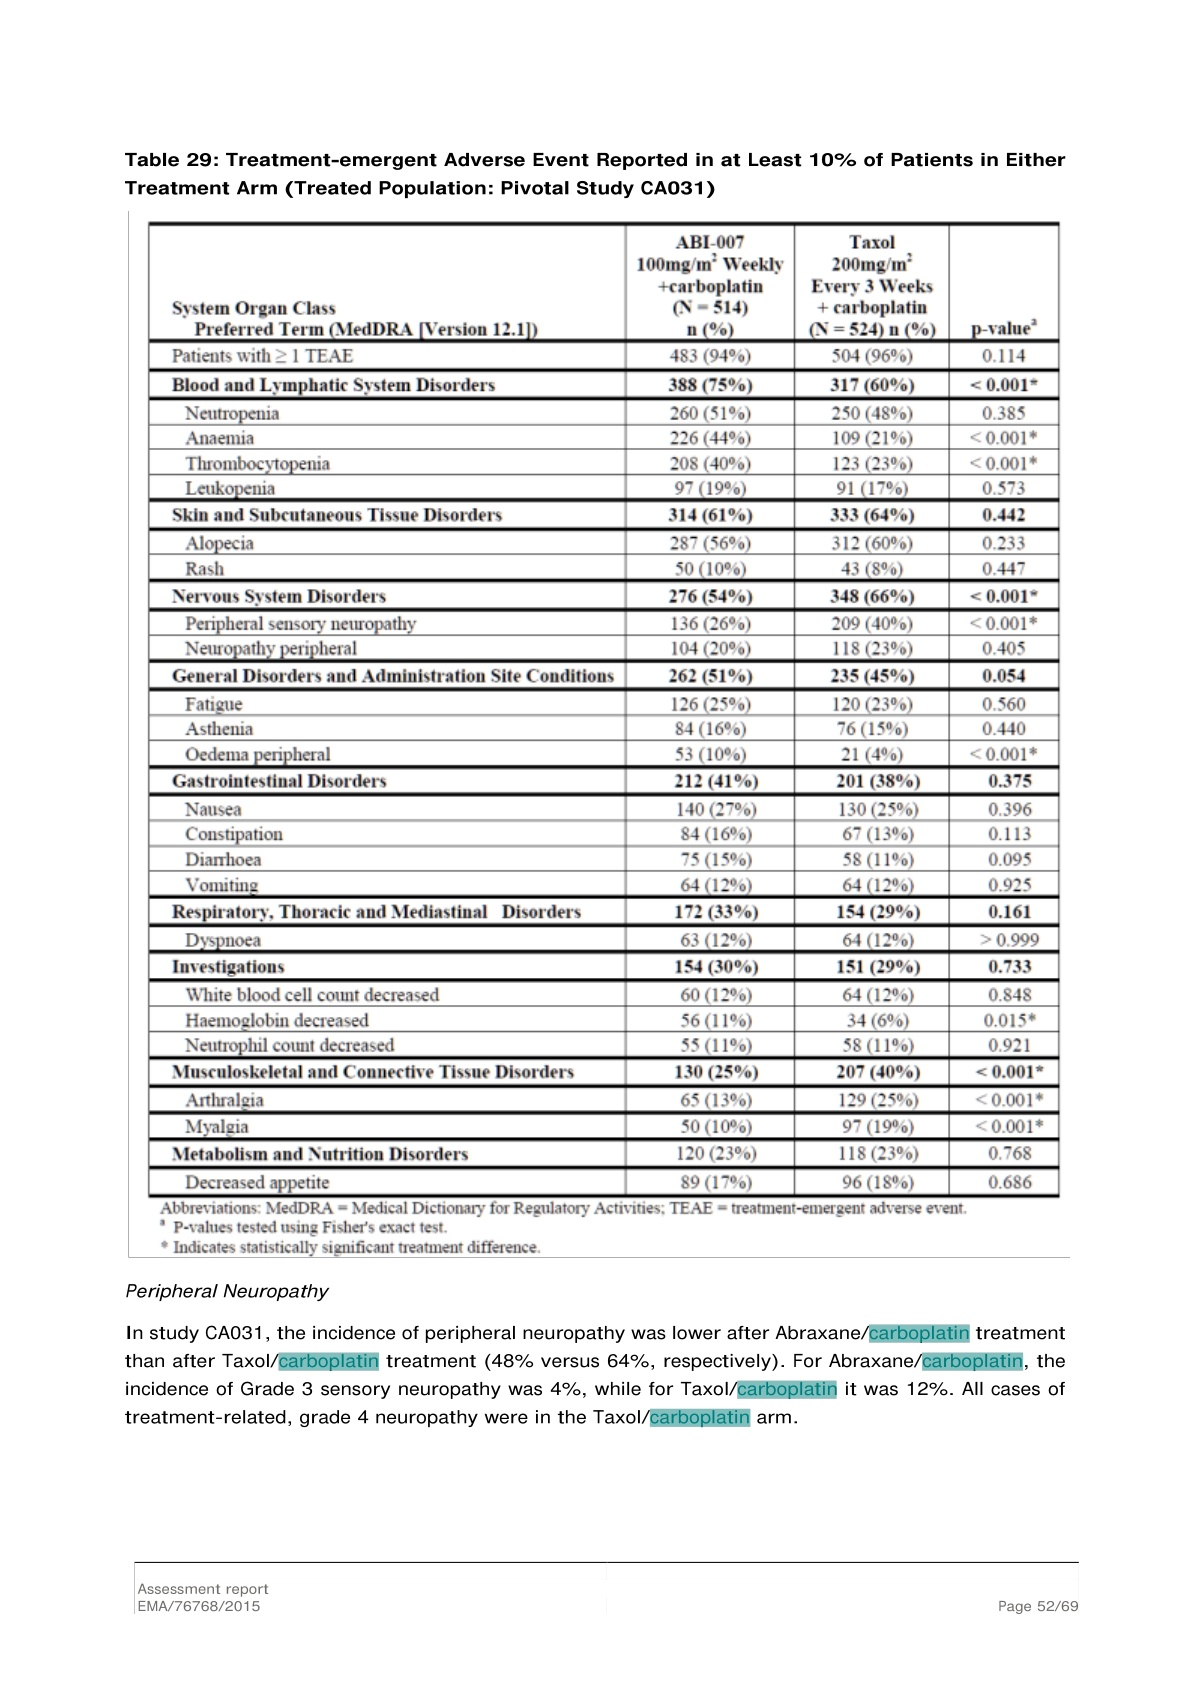full_lined: (124, 213, 1081, 1205)
